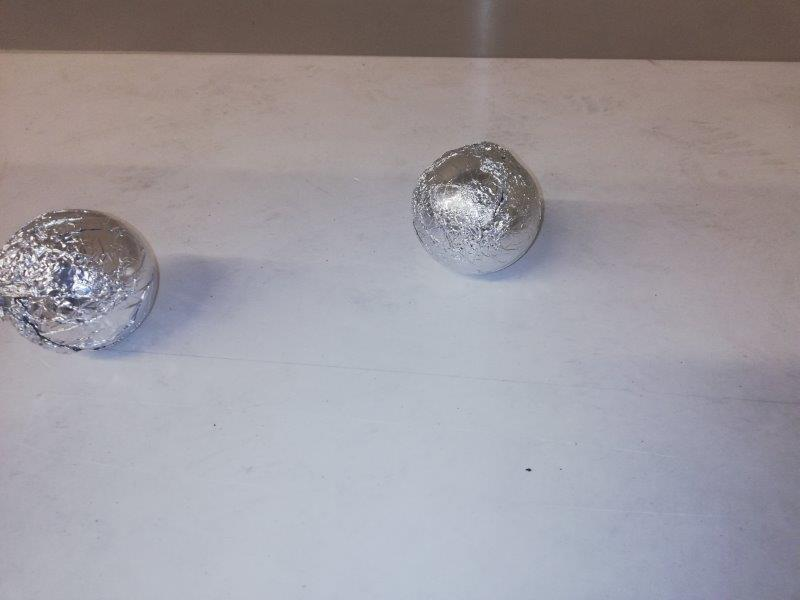bianca: (1, 208, 160, 355), (411, 139, 545, 277)
